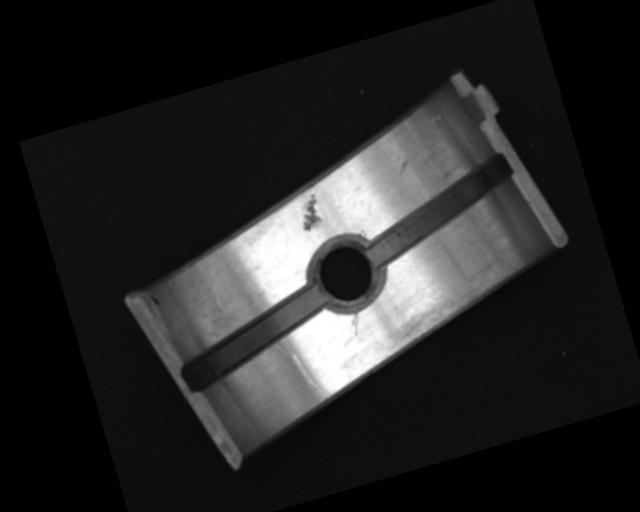blot: (148, 291, 161, 308)
bruise: (293, 192, 326, 234), (393, 152, 412, 176), (430, 111, 445, 123)
gap: (352, 152, 529, 271), (168, 279, 340, 394)
hole: (301, 230, 390, 319)
nick: (290, 346, 331, 405), (348, 312, 364, 337)
scratch: (373, 247, 541, 366)
